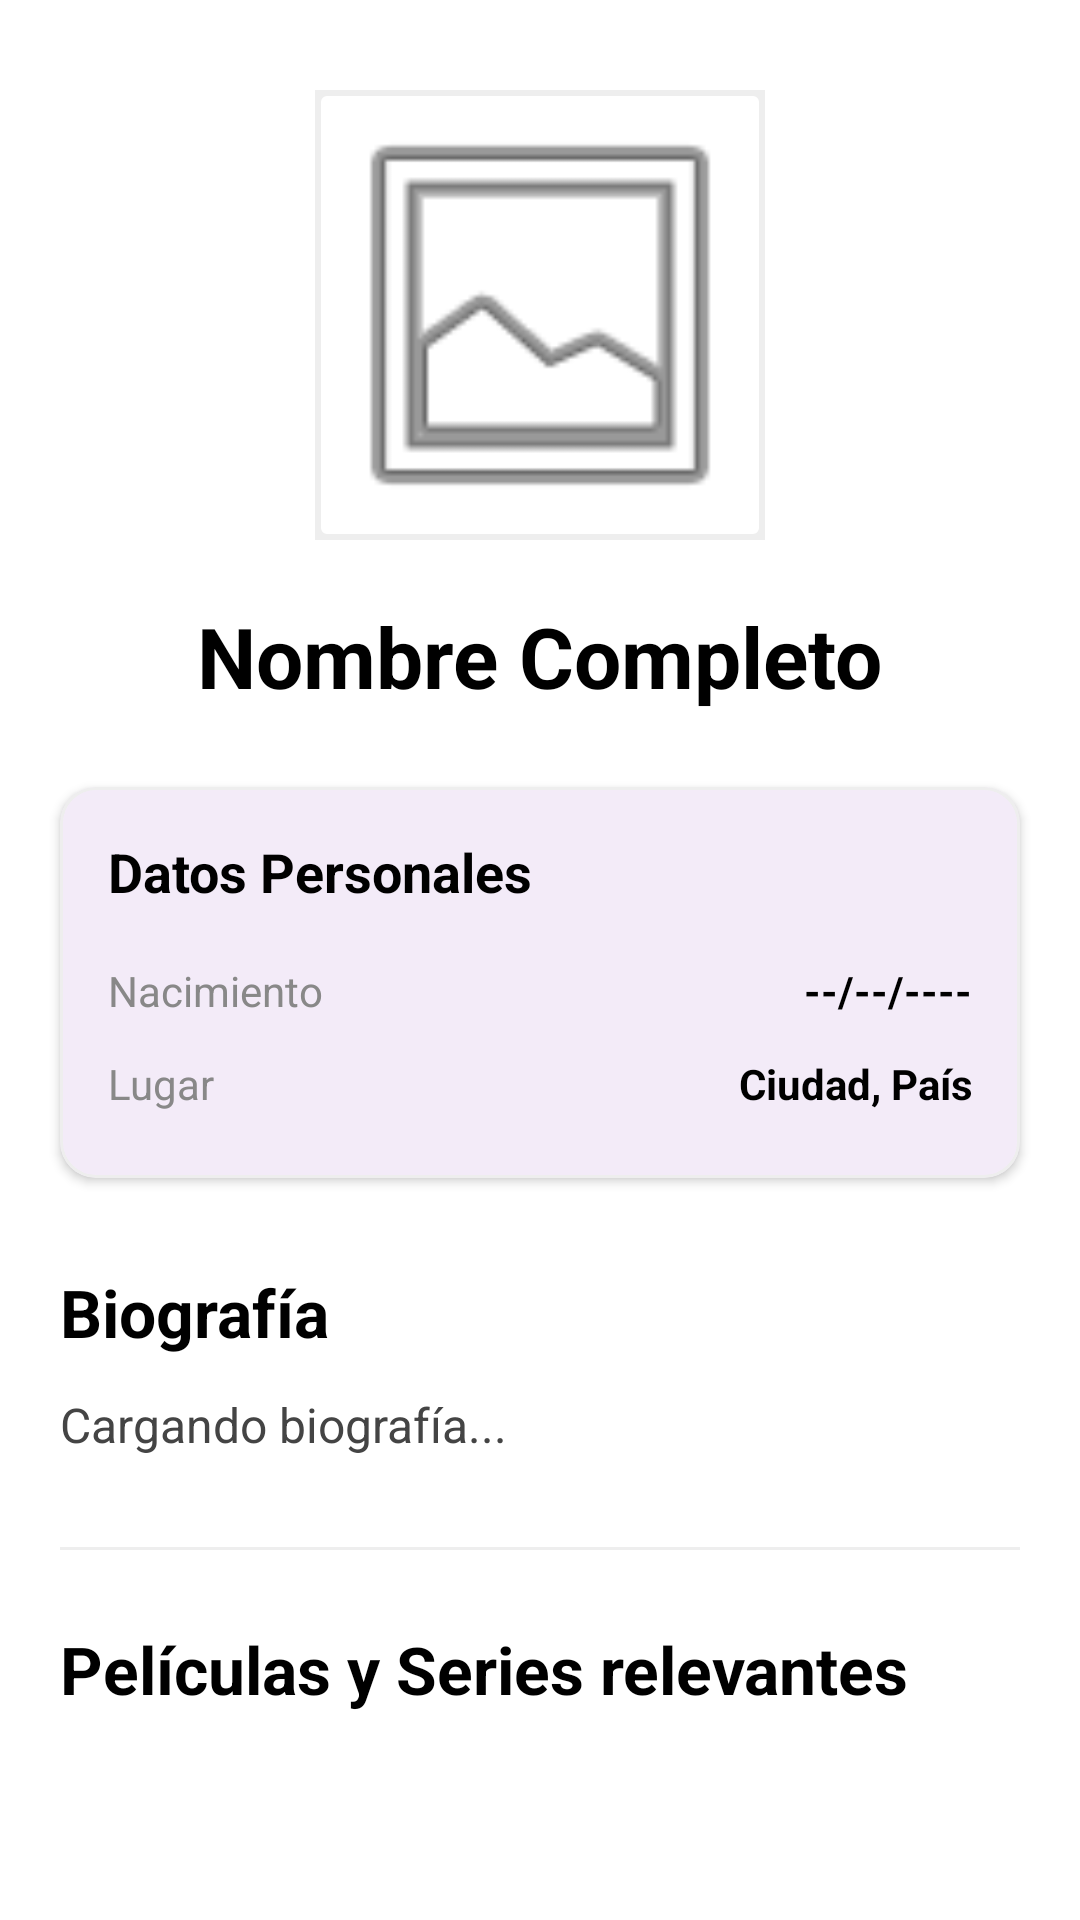

Locate icon controls on the screen. Image size 1080px x 1920px, boxes as Rect(x1, y1, x2, y2).
gallery: Rect(370, 145, 710, 485)
